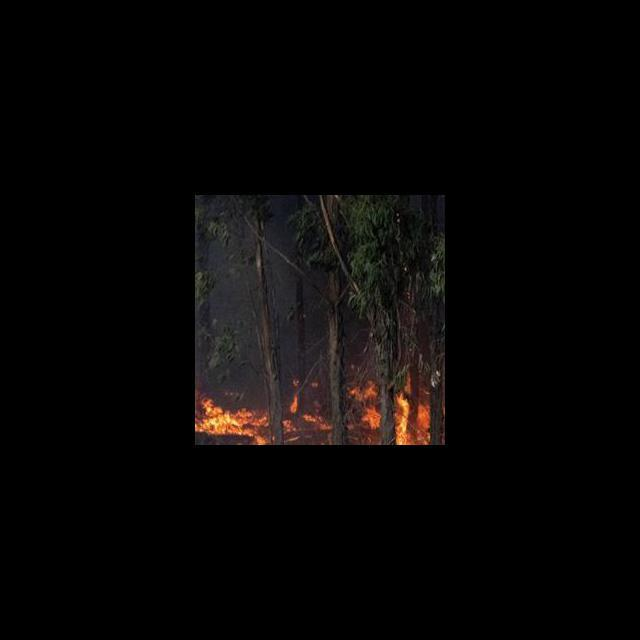Fire: (350, 372, 444, 444), (195, 377, 272, 444)
